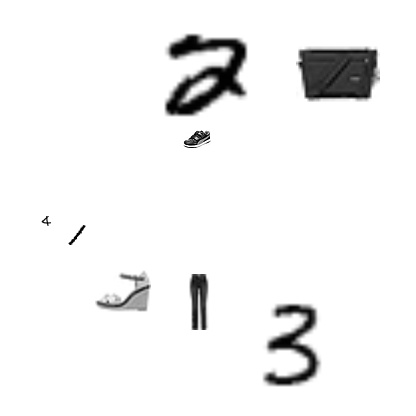1: (63, 221, 91, 249)
2: (150, 15, 262, 127)
3: (236, 289, 348, 401)
4: (39, 214, 53, 228)
Bag: (296, 32, 380, 116)
Sandal: (95, 263, 151, 319)
Sneaker: (183, 125, 211, 153)
Trouser: (170, 274, 226, 330)
